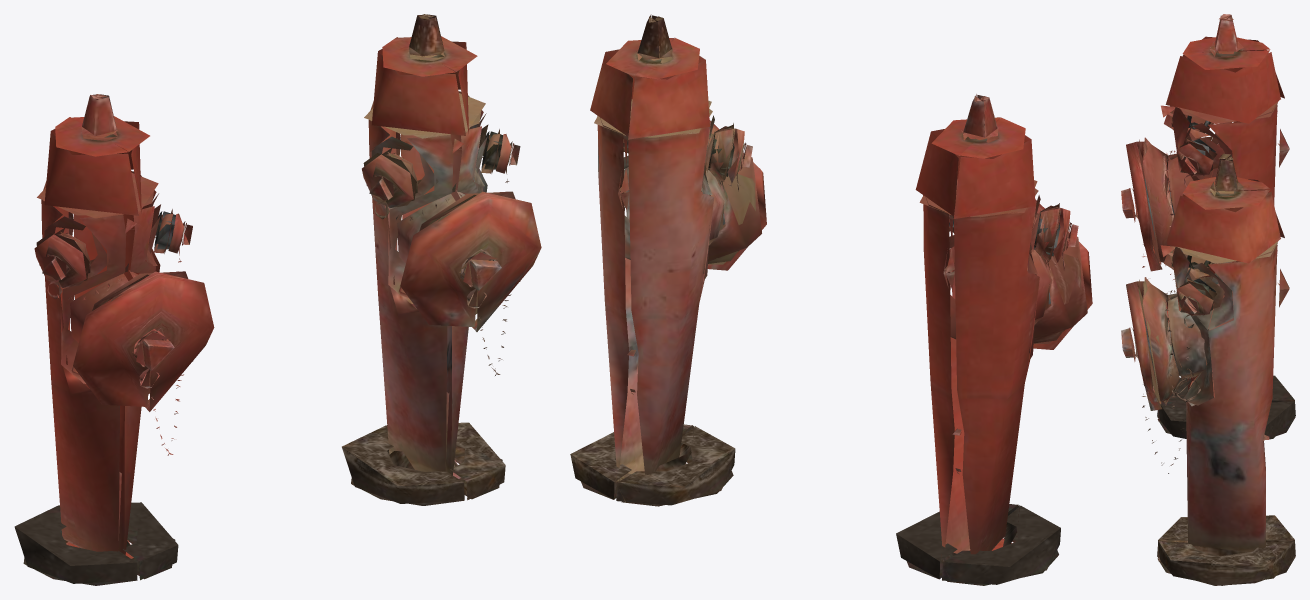
File: fire_hydrant.glb
The picture shows the model from 3 angles, left to right: view 1: azimuth 30°, elevation 25°; view 2: azimuth 150°, elevation 25°; view 3: azimuth 270°, elevation 25°; orthographic projection. The views are drawn at different scales.
Parts seen in each view (by area): view 1: fire_hydrant, fire_hydrant_aged, fire_hydrant_cap_01, fire_hydrant_cap_01_aged, fire_hydrant_cap_03, fire_hydrant_cap_03_aged; view 2: fire_hydrant, fire_hydrant_aged, fire_hydrant_cap_01_aged, fire_hydrant_cap_01, fire_hydrant_cap_03_aged, fire_hydrant_cap_03; view 3: fire_hydrant_aged, fire_hydrant, fire_hydrant_cap_01_aged, fire_hydrant_cap_01, fire_hydrant_cap_02, fire_hydrant_cap_02_aged, fire_hydrant_chain_aged.
Part boxes in pixels (x1,y1,x2,y2): fire_hydrant: [14, 94, 192, 585]; fire_hydrant_aged: [342, 14, 520, 505]; fire_hydrant_cap_01: [73, 271, 214, 411]; fire_hydrant_cap_01_aged: [400, 191, 541, 331]; fire_hydrant_cap_03: [34, 233, 89, 287]; fire_hydrant_cap_03_aged: [362, 153, 416, 207]; fire_hydrant: [896, 94, 1087, 585]; fire_hydrant_aged: [570, 14, 761, 506]; fire_hydrant_cap_01_aged: [707, 120, 766, 270]; fire_hydrant_cap_01: [1033, 199, 1092, 349]; fire_hydrant_cap_03_aged: [722, 123, 752, 182]; fire_hydrant_cap_03: [1047, 203, 1078, 262]; fire_hydrant_aged: [1142, 153, 1295, 585]; fire_hydrant: [1142, 14, 1295, 439]; fire_hydrant_cap_01_aged: [1121, 279, 1162, 410]; fire_hydrant_cap_01: [1121, 139, 1162, 271]; fire_hydrant_cap_02: [1176, 141, 1213, 176]; fire_hydrant_cap_02_aged: [1176, 281, 1213, 315]; fire_hydrant_chain_aged: [1133, 290, 1200, 473].
Bounding box in the file's own units: 0.8728 × 0.8007 × 0.3173.
Materials: 2 (2 with a texture image).
